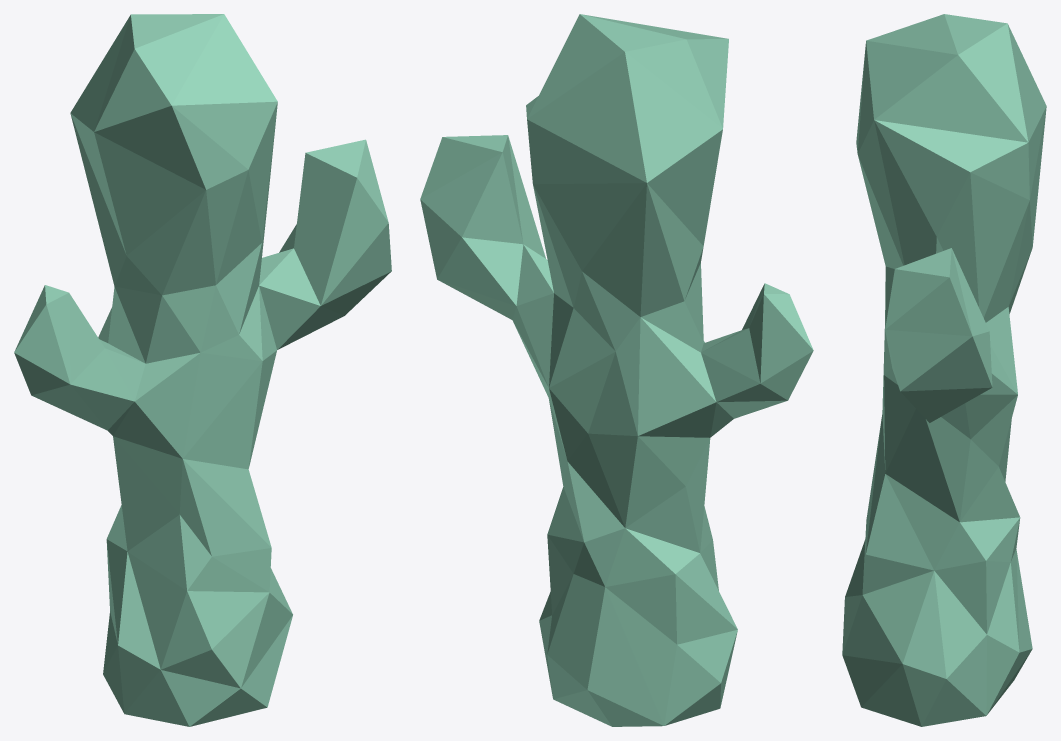
Rendered from Cactus.fbx.
3 views of the same model, side by side, from view 1: azimuth 30°, elevation 25°; view 2: azimuth 150°, elevation 25°; view 3: azimuth 270°, elevation 25° (orthographic). The views are drawn at different scales.
Visible parts, largest first — view 1: cactus; view 2: cactus; view 3: cactus.
Boxes of the visible parts, box(x1,y1,x2,y2) form: cactus: box(14, 14, 391, 726); cactus: box(420, 14, 813, 726); cactus: box(842, 14, 1046, 726).
Size of the model in its own units: 500 by 860 by 243.
